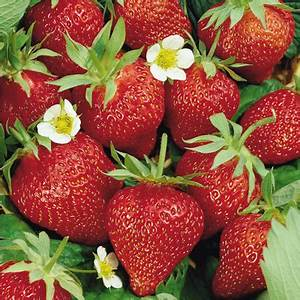Fresa: (10, 126, 137, 251), (100, 172, 209, 300), (68, 47, 167, 163), (169, 131, 268, 245), (194, 1, 300, 91), (161, 49, 242, 153), (19, 1, 111, 84), (207, 206, 285, 300), (236, 80, 300, 172), (109, 1, 198, 56)
